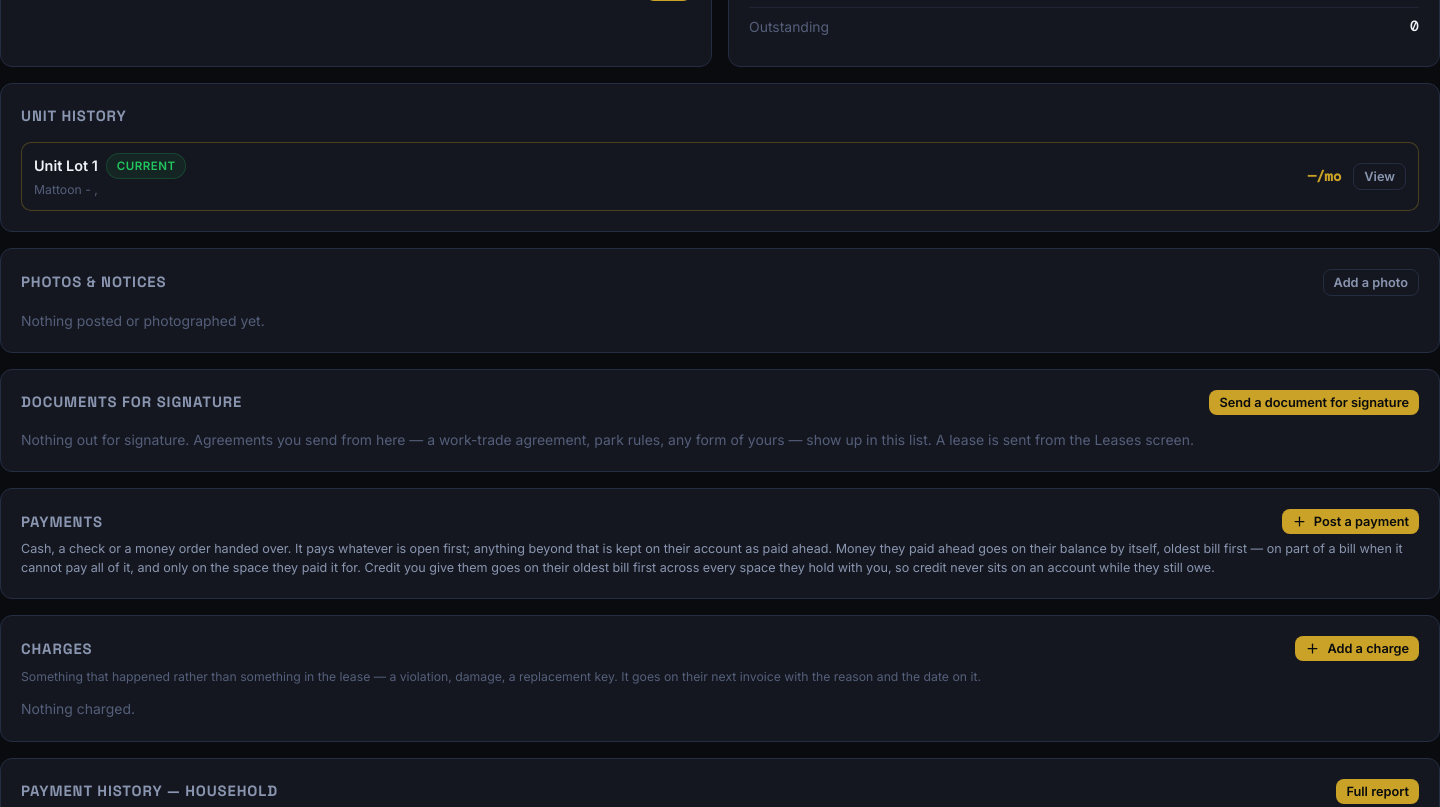
it: the resident page's signing door › says which box is left off when the household does not fill it
(page scrolled)
Click the button "Send a document for signature" at coordinates (1314, 402), box x1=1209 y1=390 x2=1419 y2=415
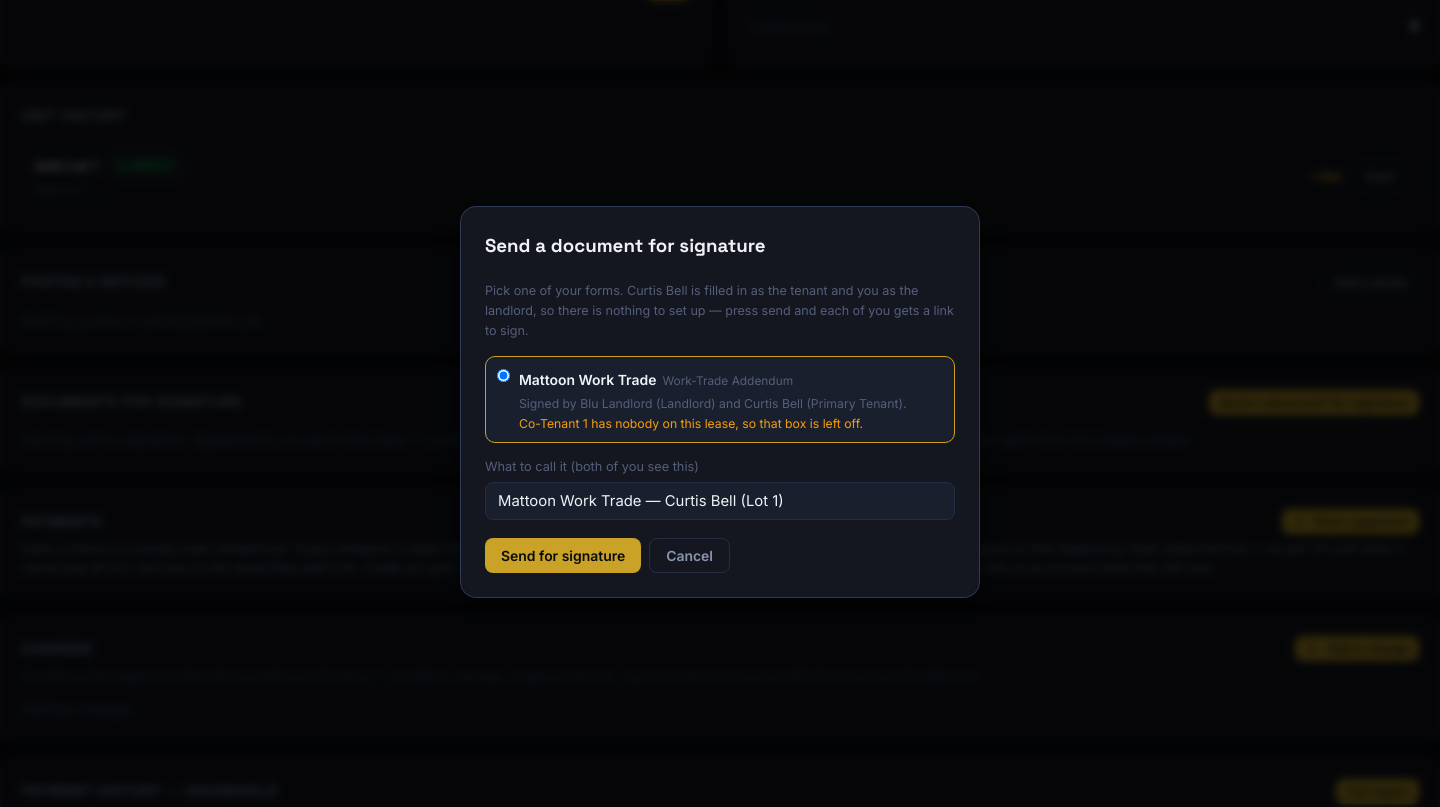
Now the label that starts with "Mattoon Work Trade" shows "Co-Tenant 1 has nobody on this lease", box x1=485 y1=356 x2=955 y2=443
Now the label that starts with "Mattoon Work Trade" shows "left off", box x1=819 y1=416 x2=863 y2=431
